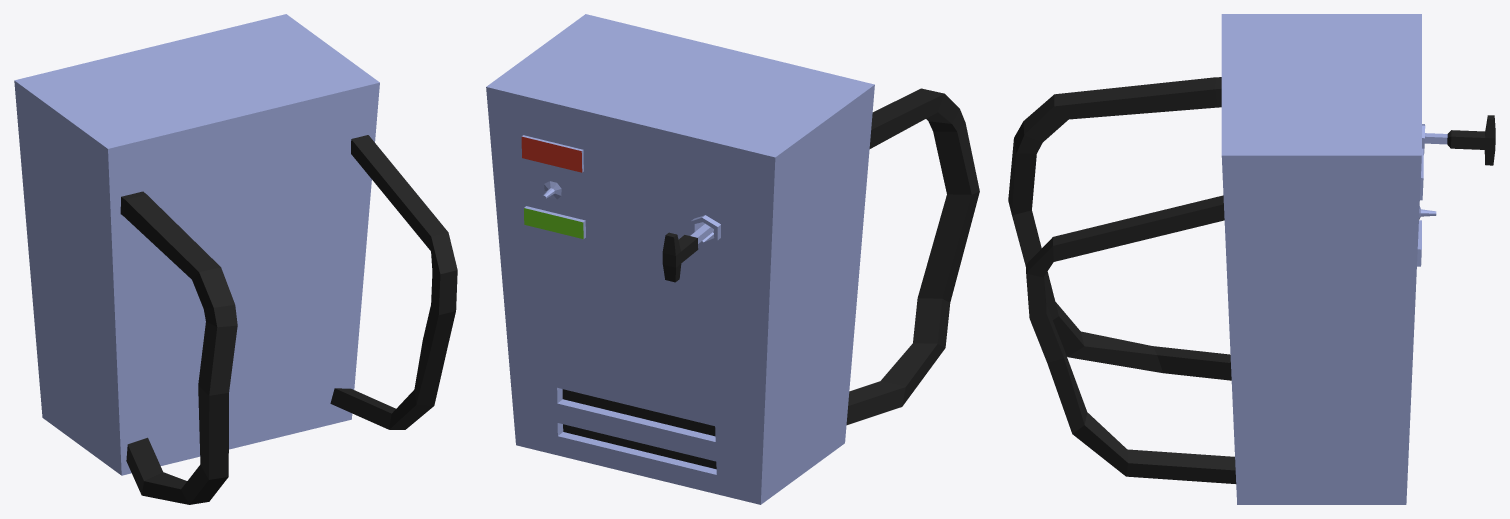
The model's file is pack.fbx.
3 renders of one model, left to right at view 1: azimuth 30°, elevation 25°; view 2: azimuth 150°, elevation 25°; view 3: azimuth 270°, elevation 25°, orthographic. The views are drawn at different scales.
Visible parts, largest first — view 1: Backpack; view 2: Backpack; view 3: Backpack.
Part boxes in pixels (x1,y1,x2,y2): Backpack: (14,14,457,504); Backpack: (486,14,979,504); Backpack: (1008,14,1495,504).
Size of the model in its own units: 297 by 352 by 432.
